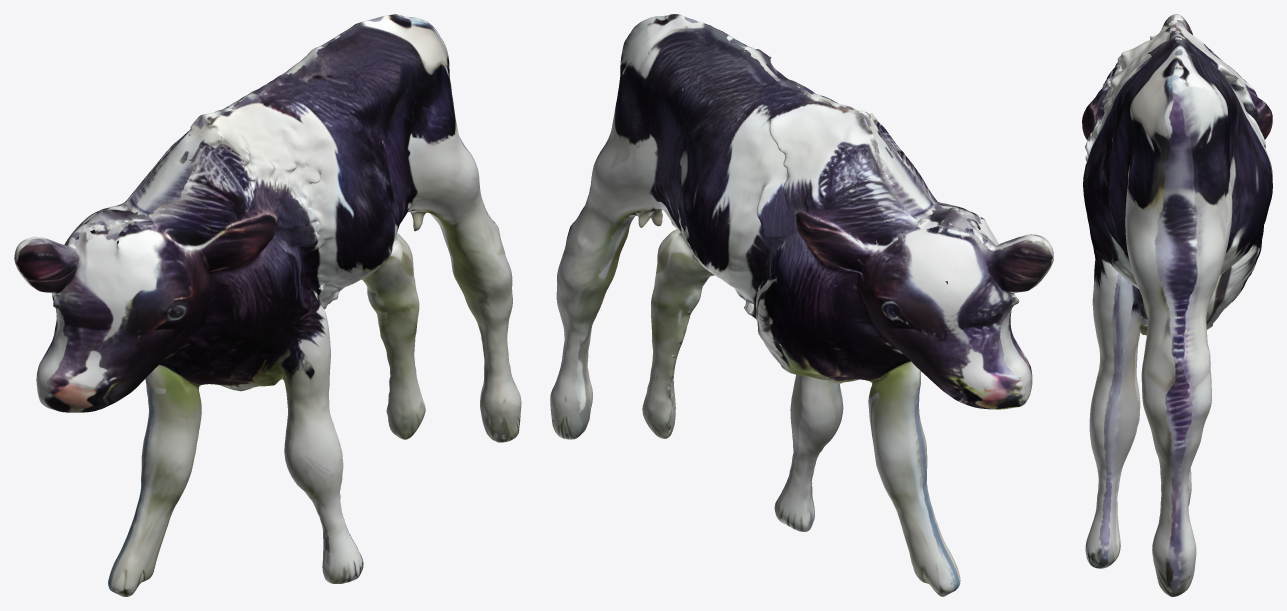
Rendered from bebe.glb.
3 views of the same model, side by side, from view 1: azimuth 30°, elevation 25°; view 2: azimuth 150°, elevation 25°; view 3: azimuth 270°, elevation 25° (orthographic). The views are drawn at different scales.
Visible parts, largest first — view 1: mesh; view 2: mesh; view 3: mesh.
Part boxes in pixels (x1,y1,x2,y2): mesh: [14, 14, 521, 596]; mesh: [550, 14, 1053, 596]; mesh: [1082, 14, 1272, 596].
Size of the model in its own units: 1.64 by 1.63 by 0.5111.
Materials: 1 (1 with a texture image).
